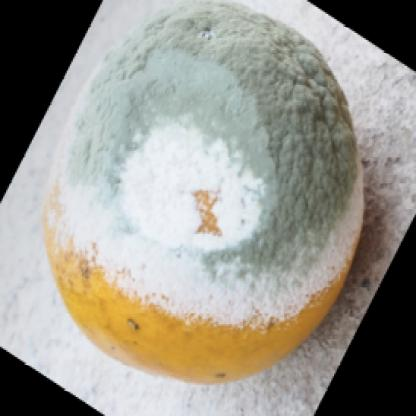rotten: (48, 6, 367, 380)
